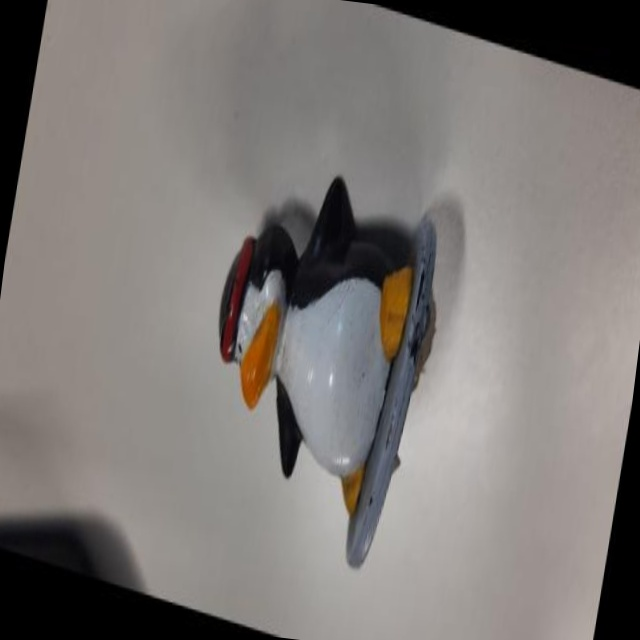Penguin: (169, 133, 469, 603)
